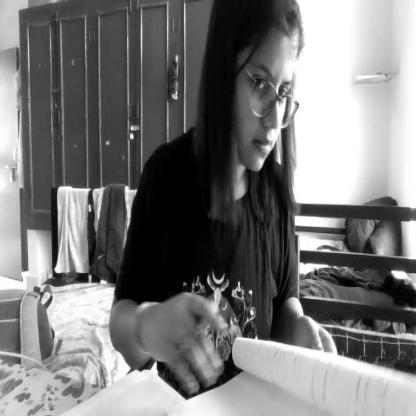Distracted: (210, 1, 305, 187)
